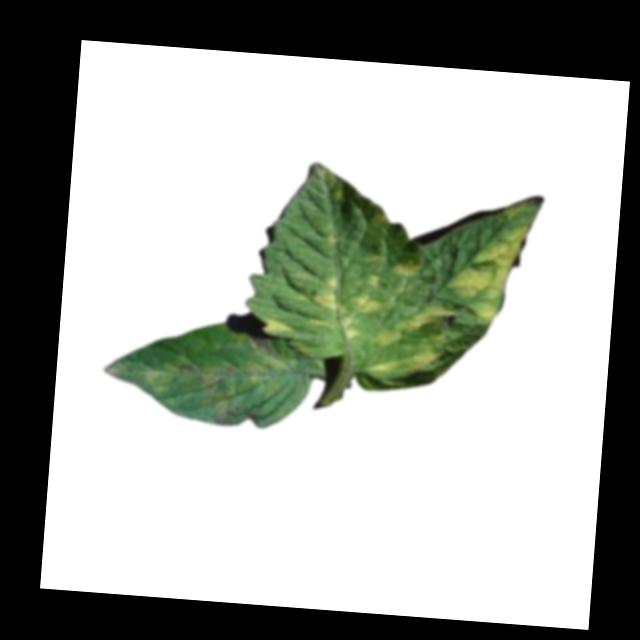Leaf_Mold: (100, 315, 314, 431), (446, 216, 527, 331), (369, 302, 450, 379), (305, 265, 377, 343), (386, 250, 423, 277), (260, 318, 292, 335), (365, 204, 386, 223)
